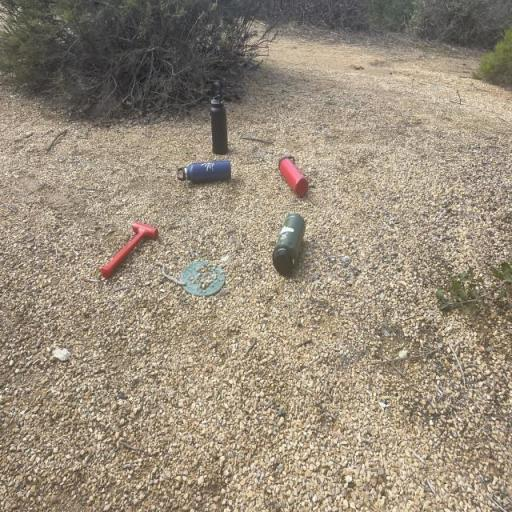bottle: (271, 212, 306, 277), (206, 82, 232, 160), (174, 156, 232, 188), (277, 153, 311, 200)
mallet: (98, 216, 160, 286)
